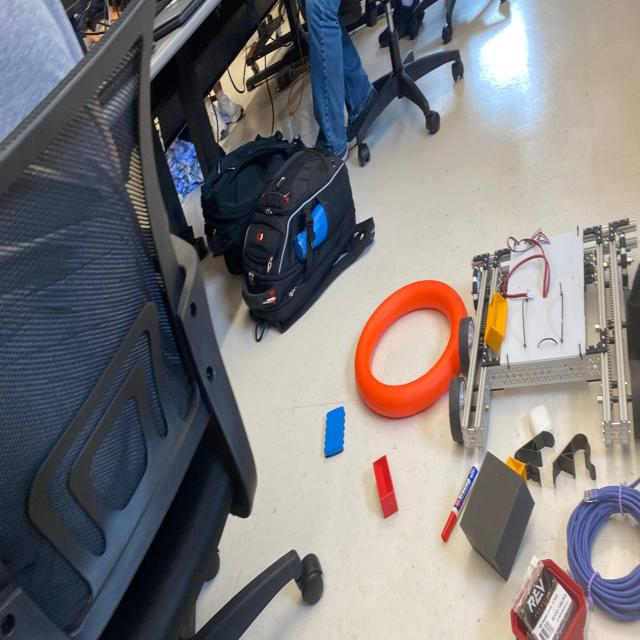red-specimen: (373, 456, 398, 518)
yellow-specimen: (484, 291, 508, 352), (506, 457, 527, 484)
